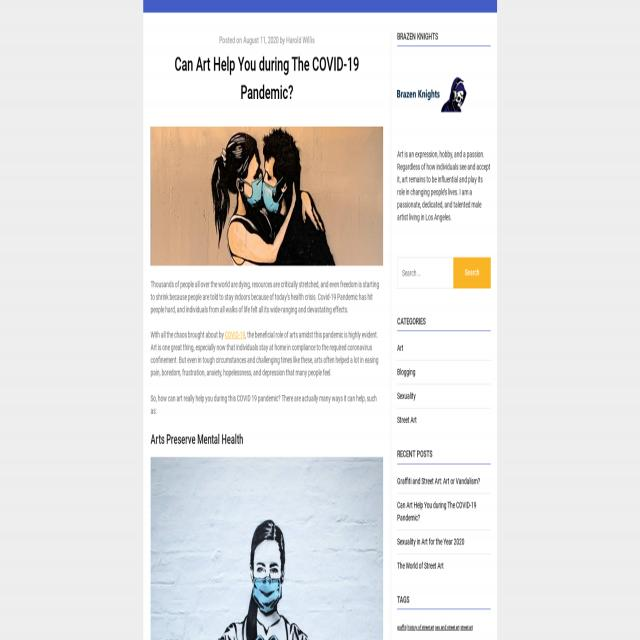button: (149, 456, 383, 640), (151, 126, 383, 266), (397, 57, 467, 132), (453, 257, 491, 288)
field: (397, 257, 453, 289)
